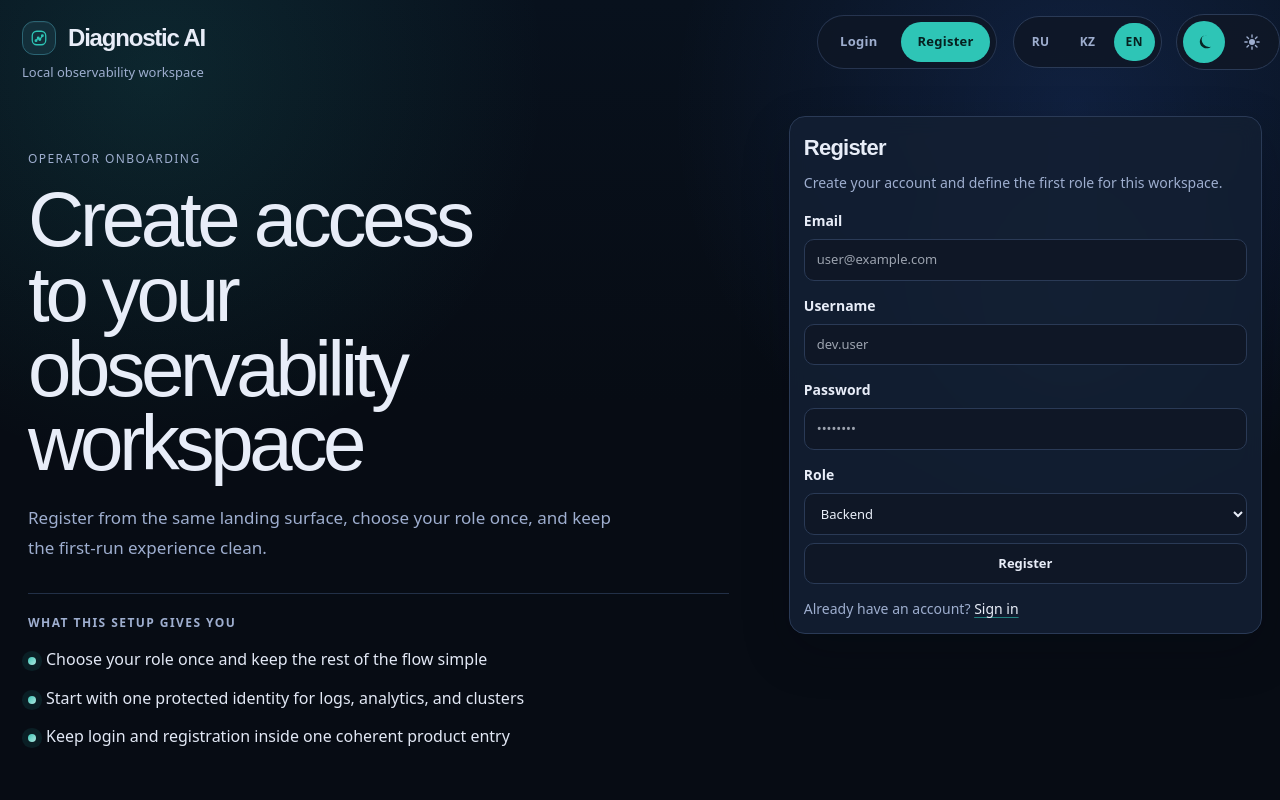
Test case: RegisterPage › shows validation message before submitting invalid register payload
Step 1. Type "bad-email" into the field labelled "Email" → (1025, 260), box [804,239,1247,281]
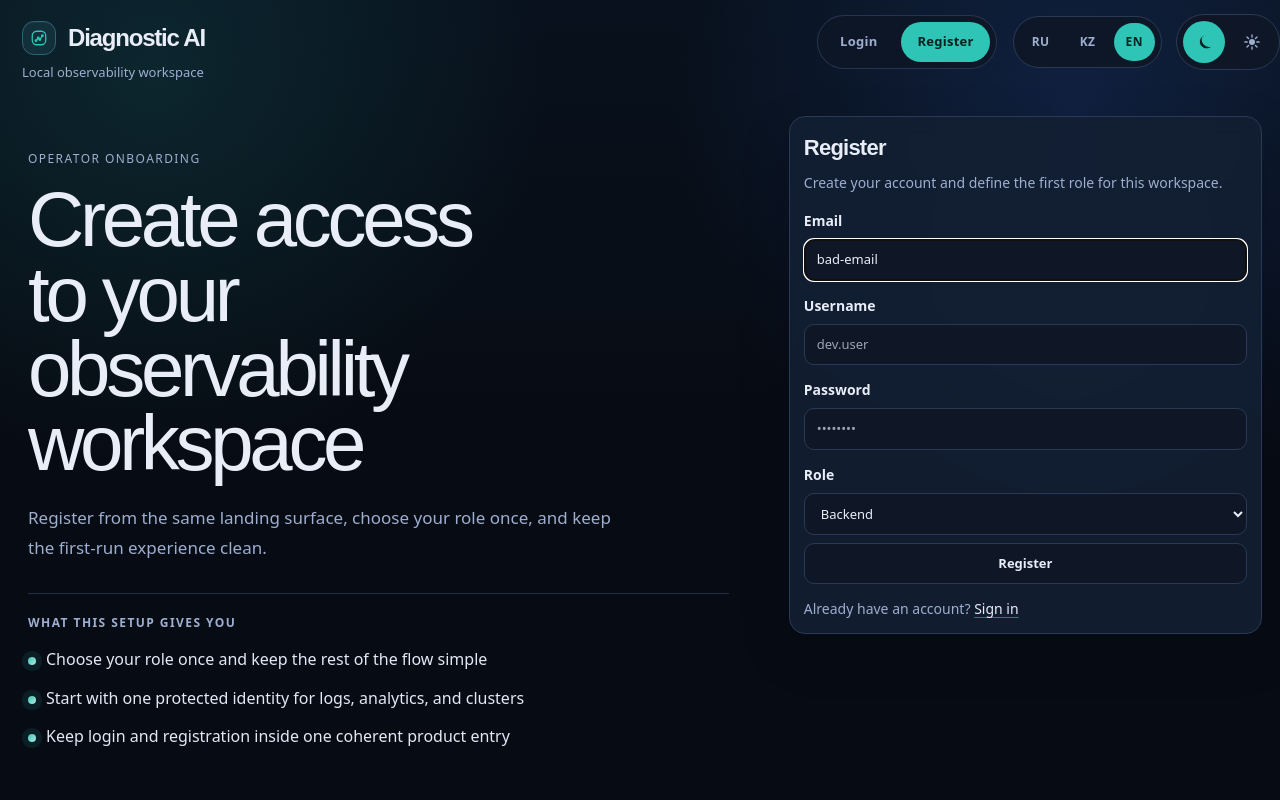
Step 2. Type "name with spaces" into the field labelled "Username" → (1025, 344), box [804,324,1247,365]
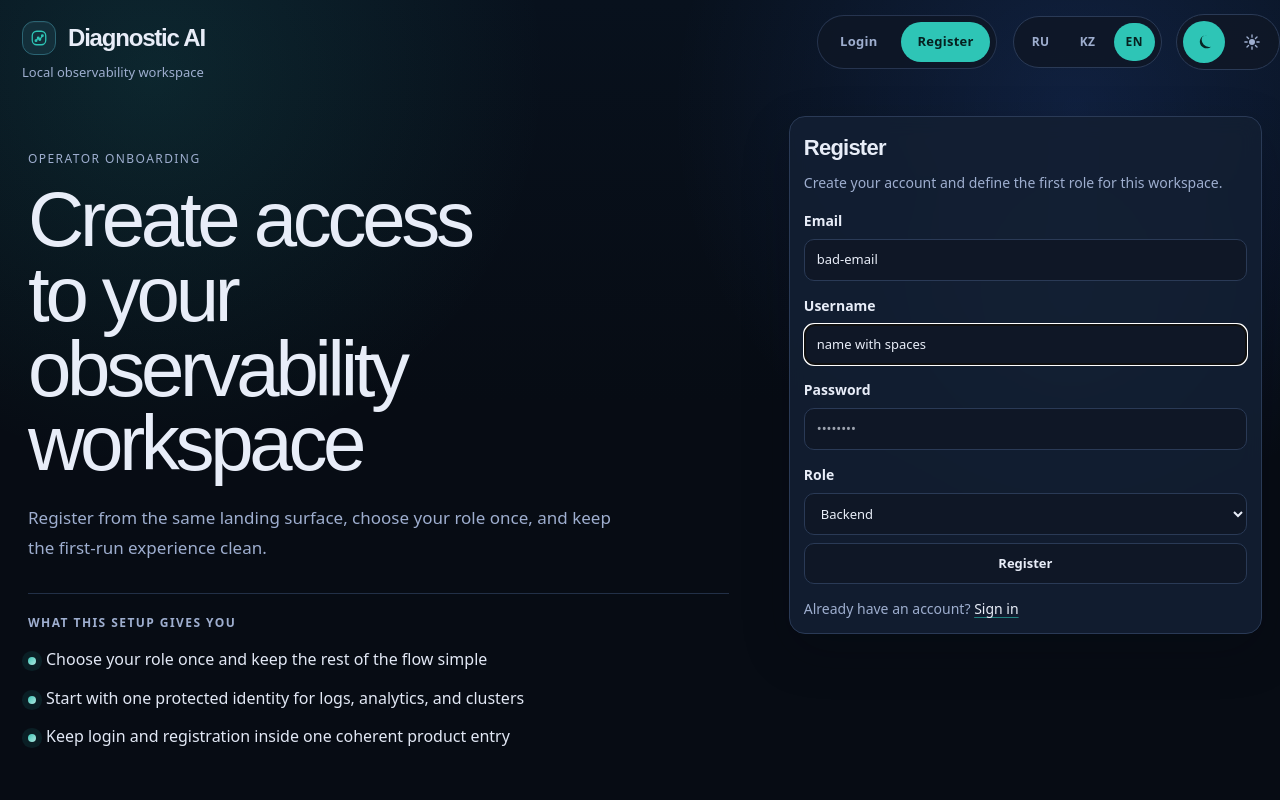
Step 3. Type "123" into the password field labelled "Password" → (1025, 429), box [804,408,1247,450]
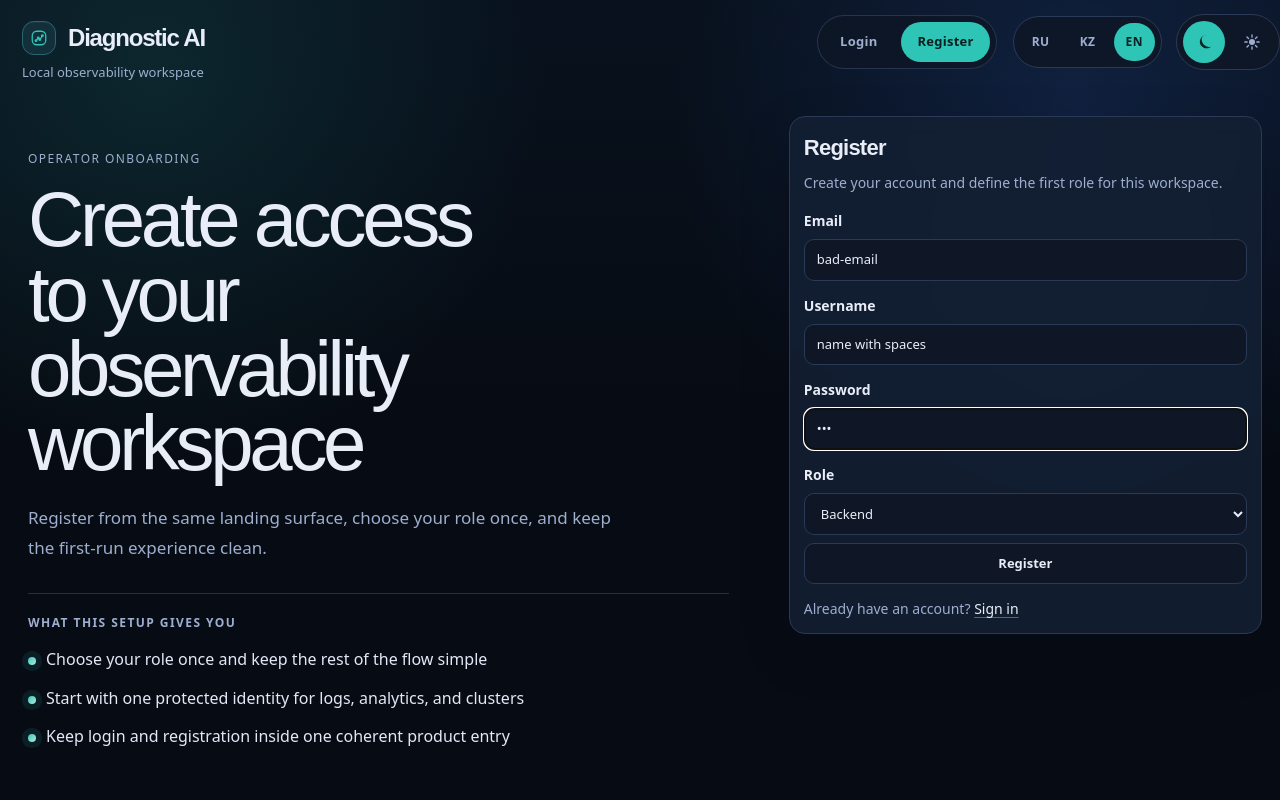
Step 4. Click the button "Register" → (1025, 563), box [804,543,1247,584]
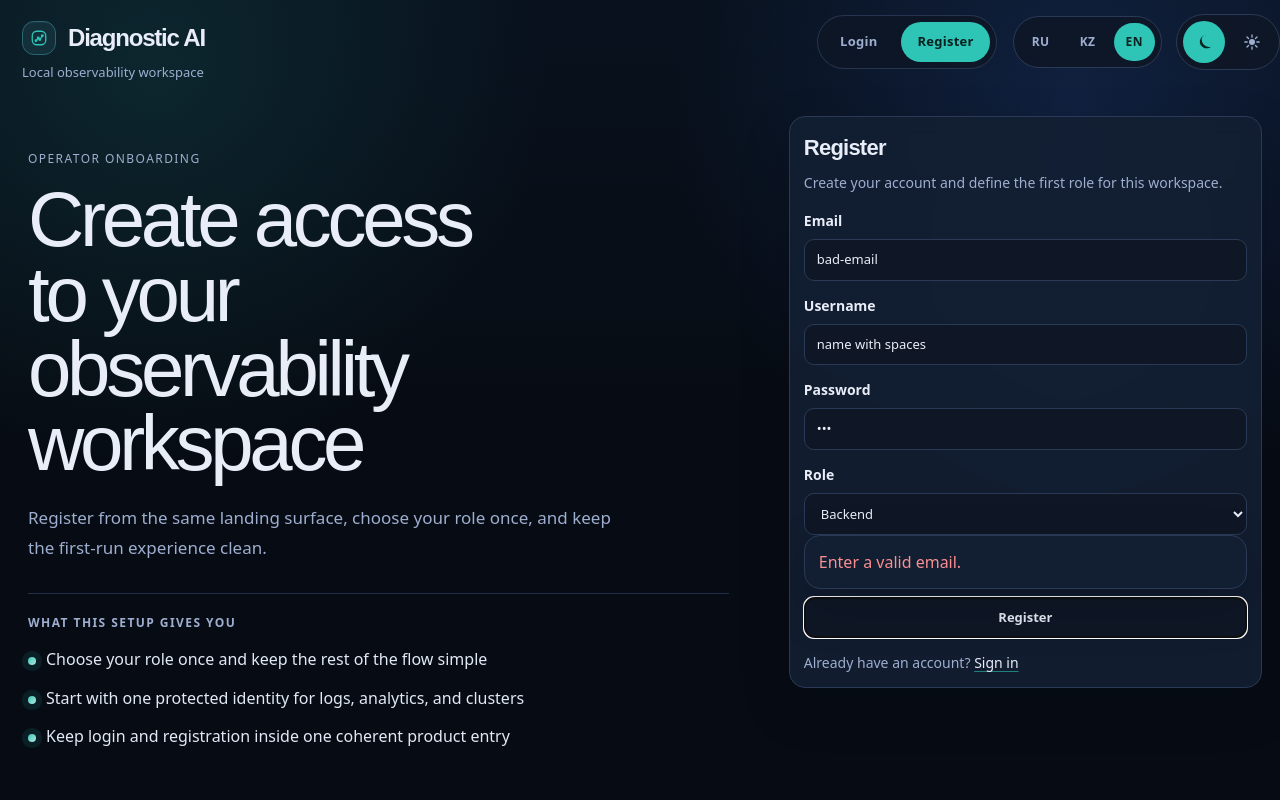
Expected: the message shows "Enter a valid email", [819,551,961,573]
